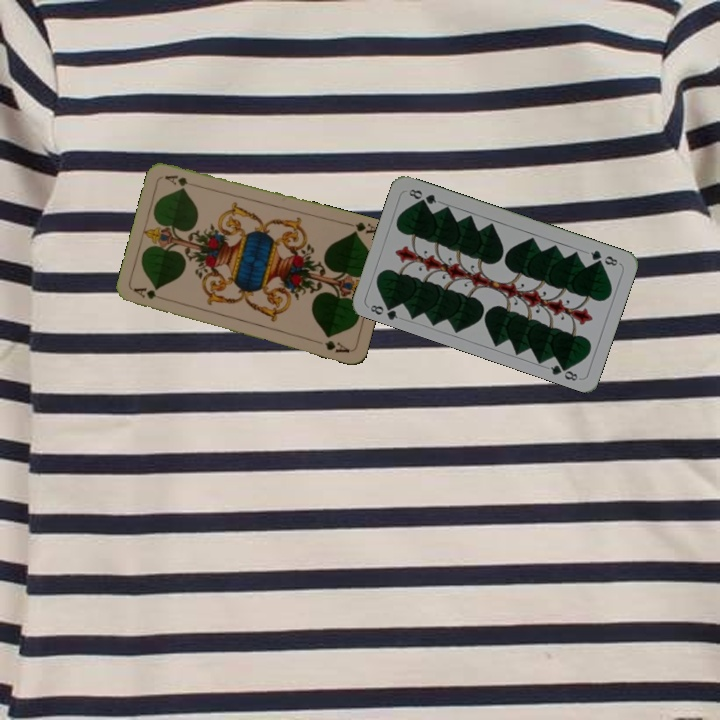G8: (366, 298, 400, 322), (586, 246, 621, 268)
GA: (130, 284, 170, 303), (343, 218, 382, 237)
